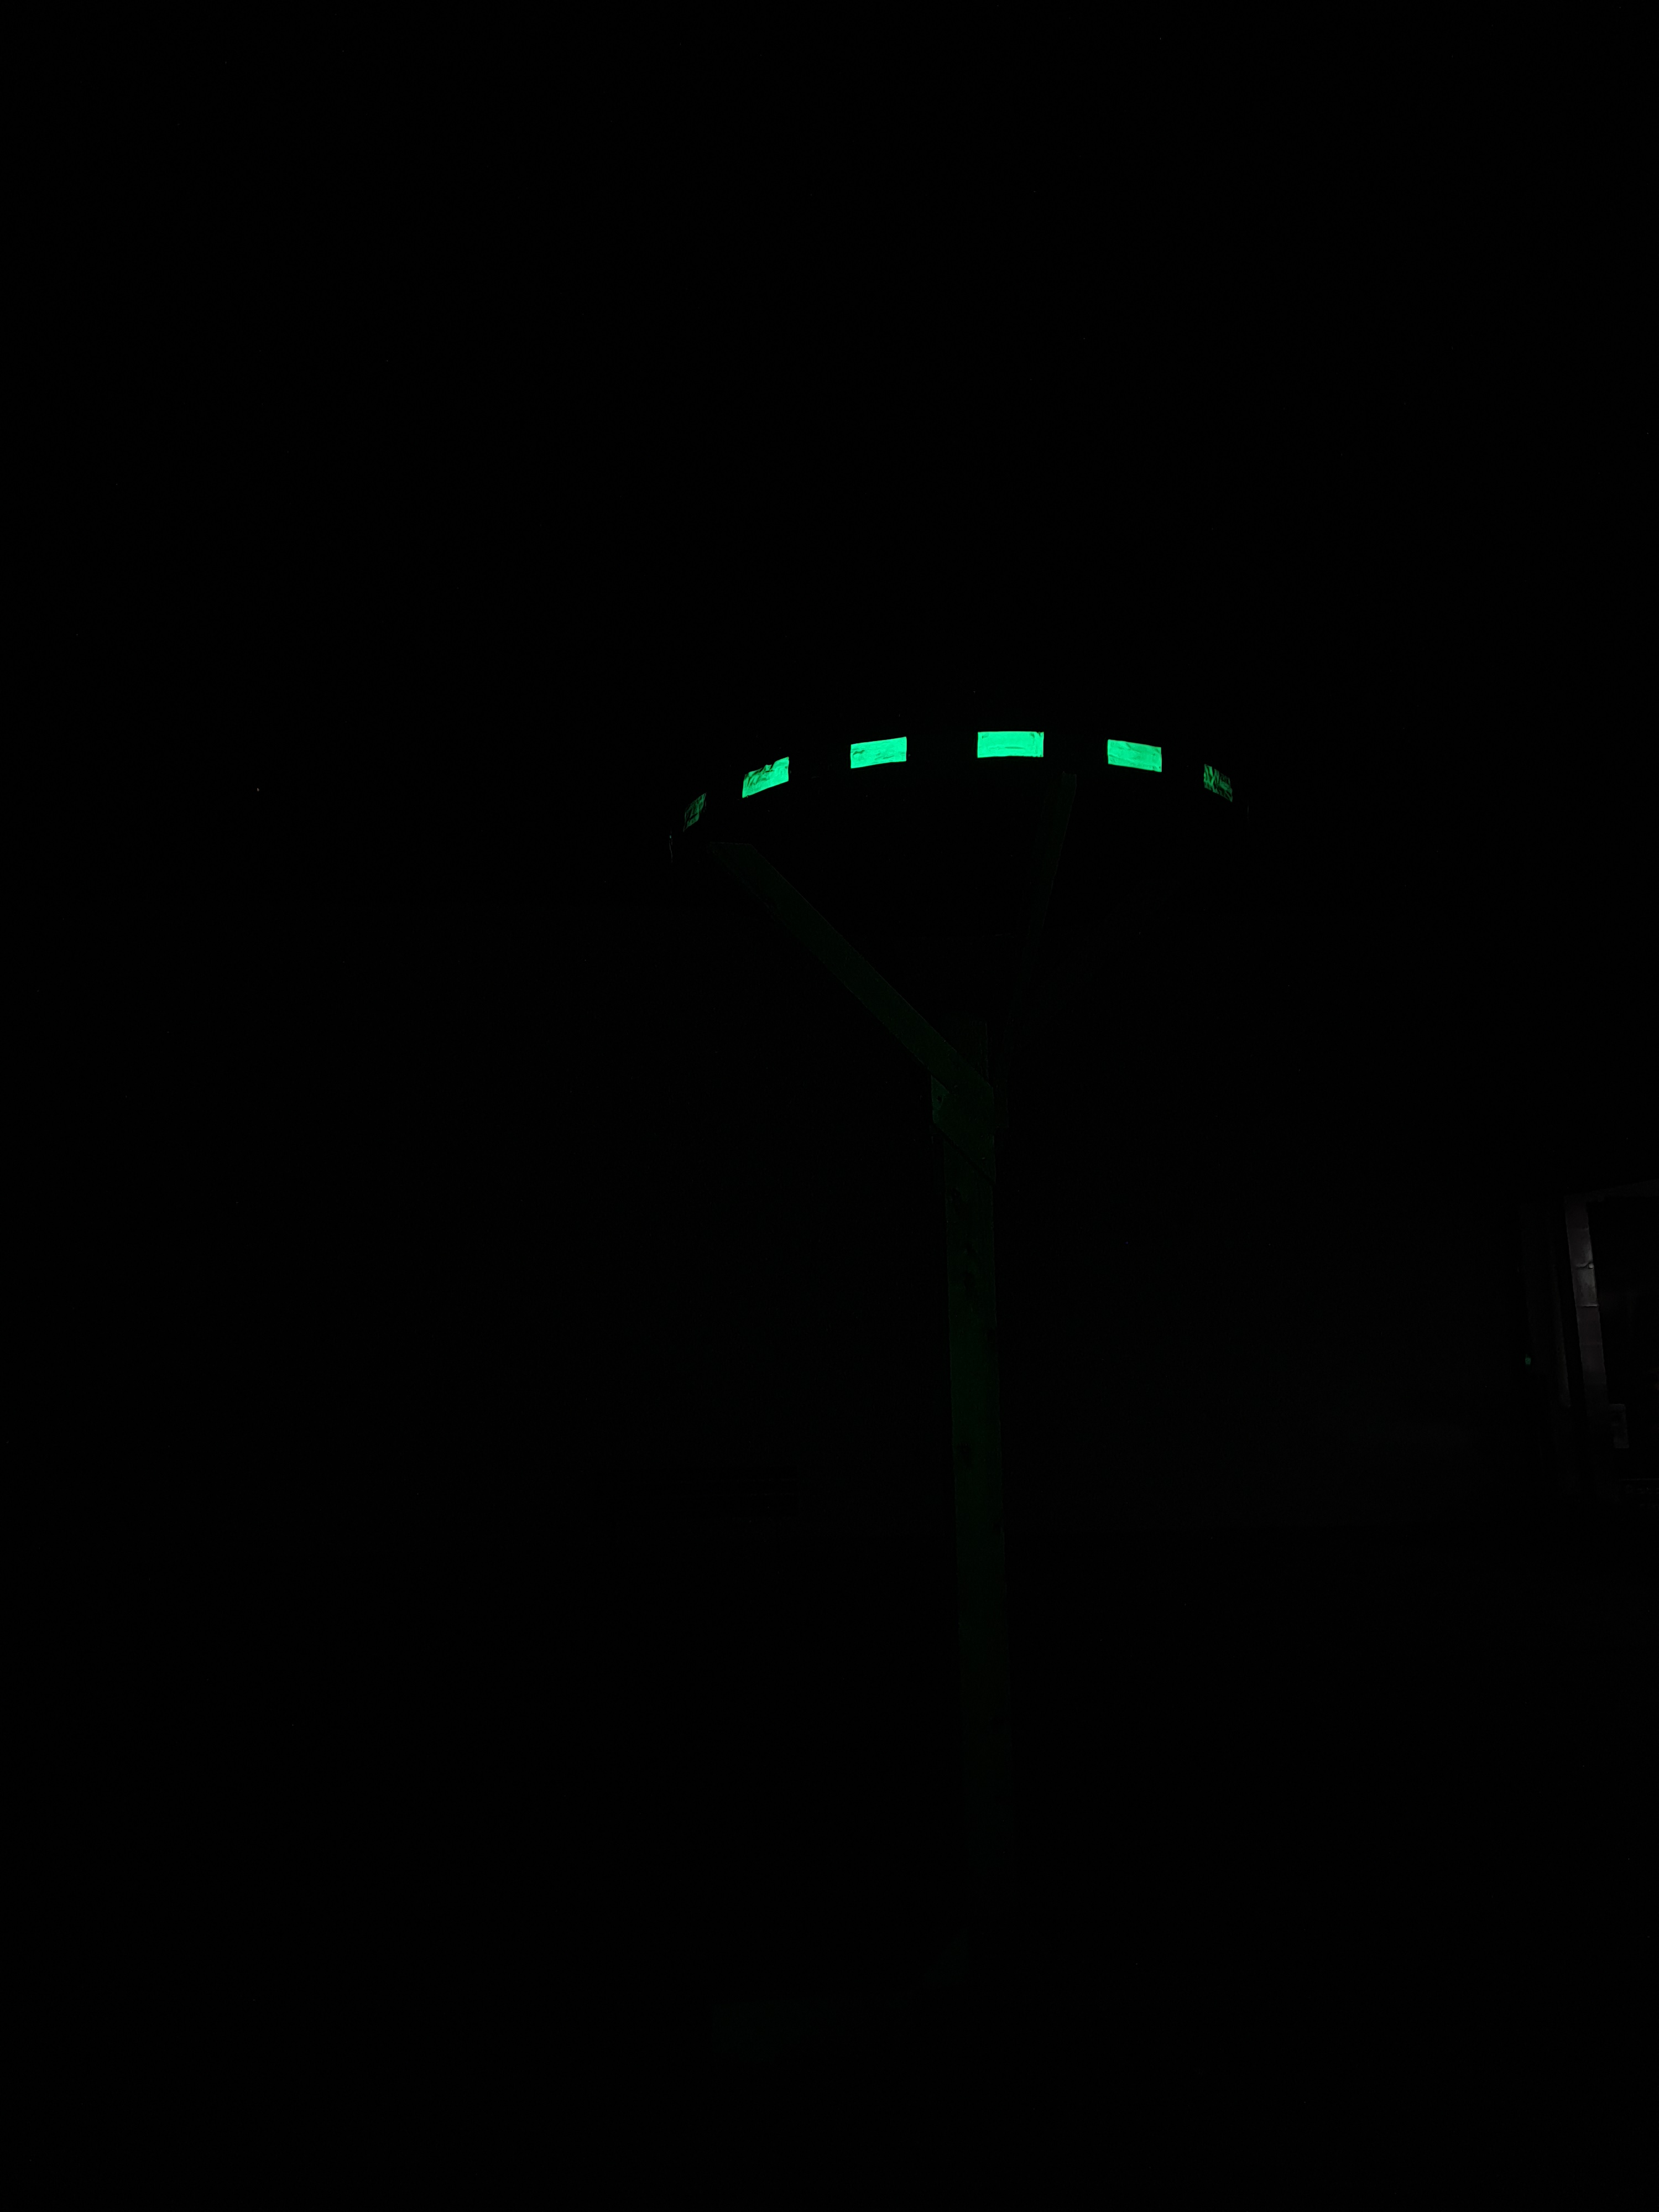hoop: (678, 726, 1236, 815)
